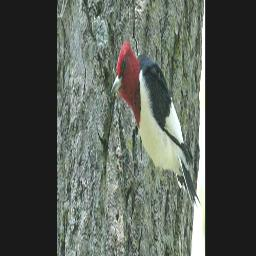Woodpecker: (107, 28, 204, 228)
